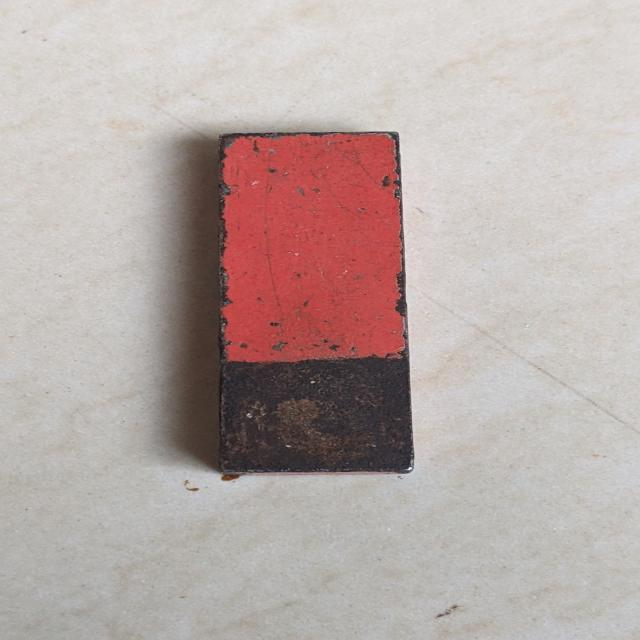Magnet: (193, 119, 457, 482)
